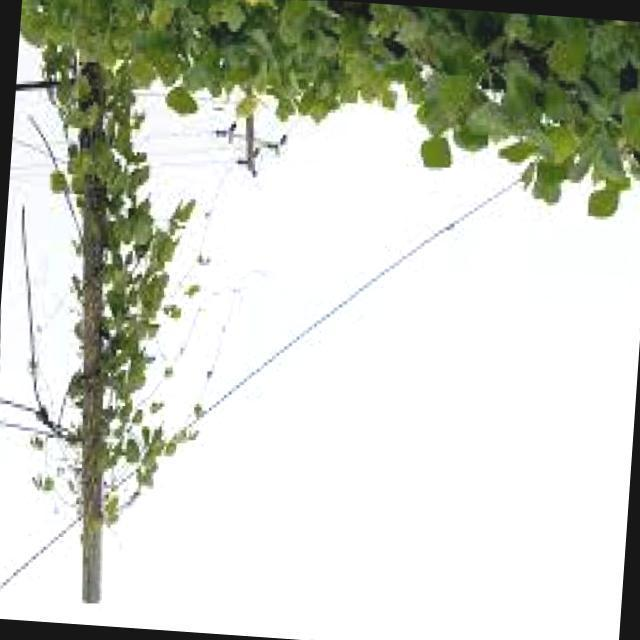critical vegetation: (0, 88, 235, 535)
